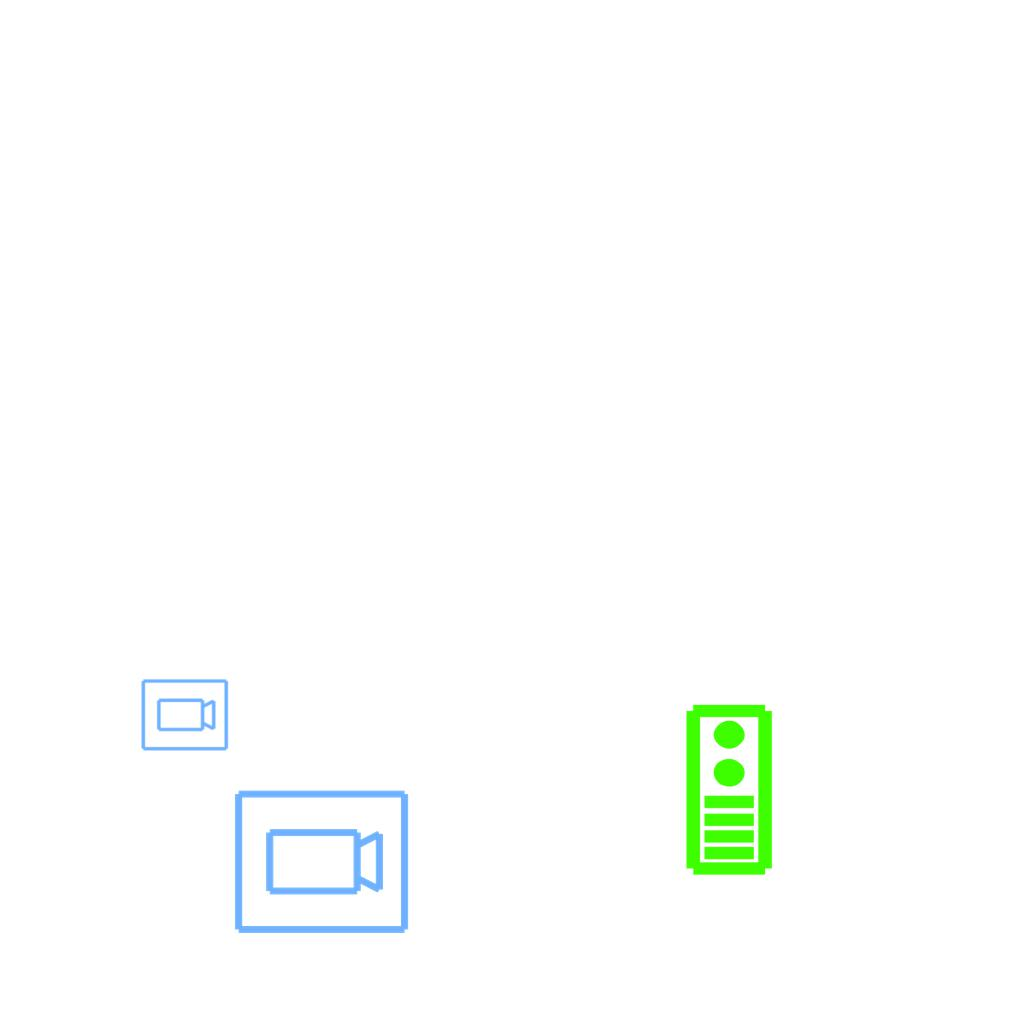Gegensprechanlage_mit_Video: (680, 701, 775, 877)
KFO_Kamera_mit_Festobjektiv: (230, 786, 412, 940), (139, 677, 230, 754)
